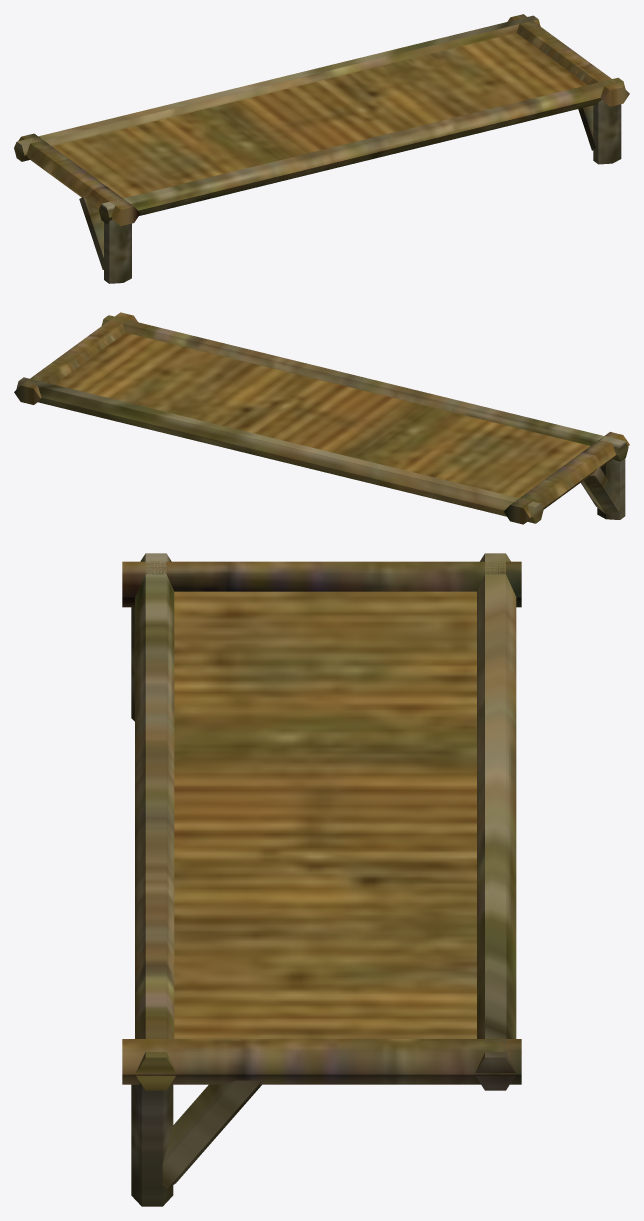
The model's file is Shelf.fbx.
3 views of the same model, one above another, from view 1: azimuth 30°, elevation 25°; view 2: azimuth 150°, elevation 25°; view 3: azimuth 270°, elevation 25° (orthographic). The views are drawn at different scales.
Parts seen in each view (by area): view 1: Shelf; view 2: Shelf; view 3: Shelf.
Boxes of the visible parts, x1,y1,x2,y2 form: Shelf: (14,14,629,283); Shelf: (14,312,629,524); Shelf: (122,553,521,1206).
Size of the model in its own units: 5.28 by 1.77 by 0.7412.
Materials: 1 (1 with a texture image).
